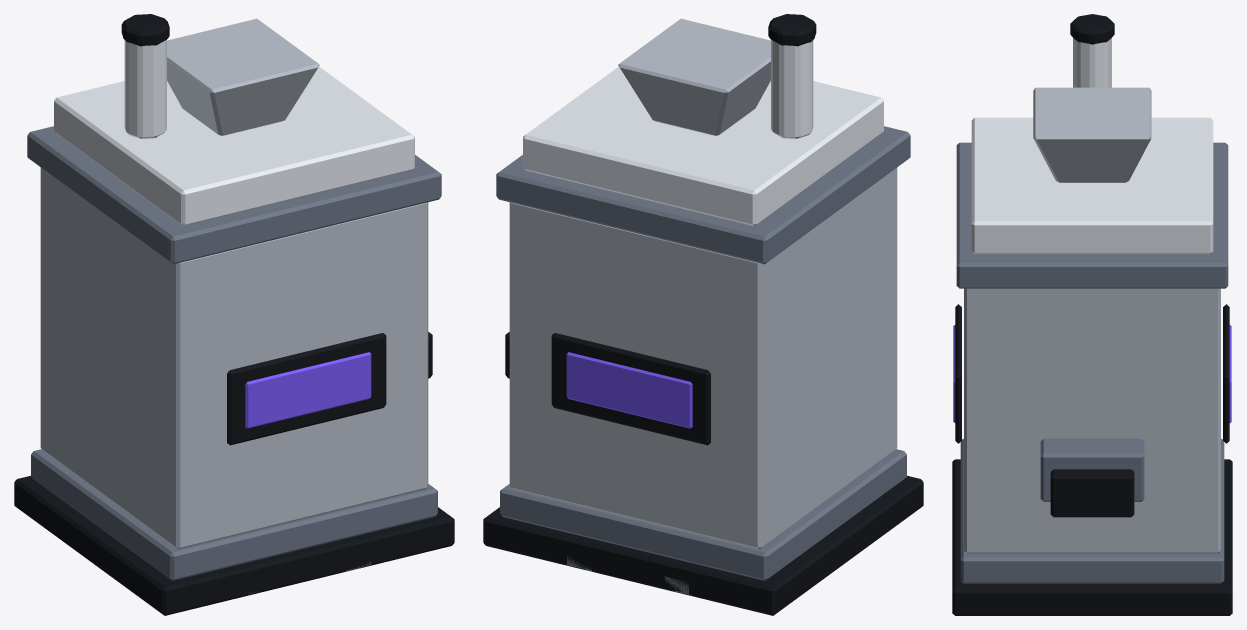
Rendered from dropper-mk3.glb.
3 views of the same model, side by side, from view 1: azimuth 30°, elevation 25°; view 2: azimuth 150°, elevation 25°; view 3: azimuth 270°, elevation 25° (orthographic). The views are drawn at different scales.
Parts seen in each view (by area): view 1: dropper-mk3; view 2: dropper-mk3; view 3: dropper-mk3.
Boxes of the visible parts, x1=… form: dropper-mk3: x1=14, y1=14, x2=454, y2=615; dropper-mk3: x1=483, y1=14, x2=923, y2=615; dropper-mk3: x1=952, y1=14, x2=1232, y2=615.
Bounding box in the file's own units: 1.04 × 1.61 × 0.84.
